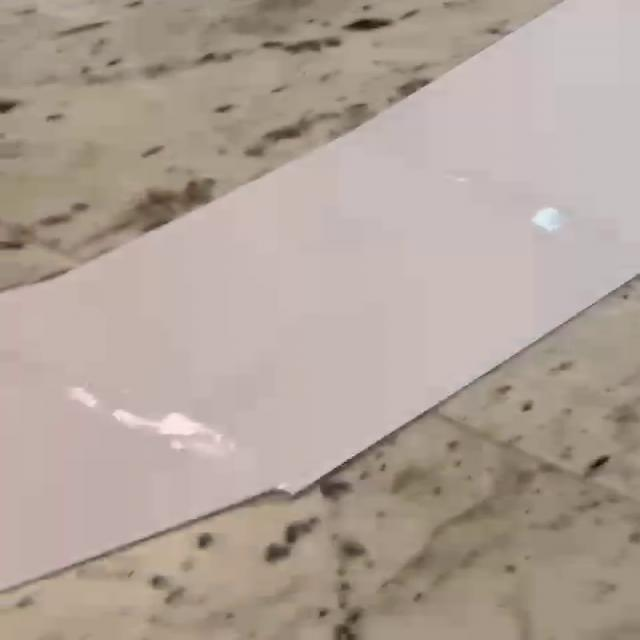road: (1, 0, 639, 588)
